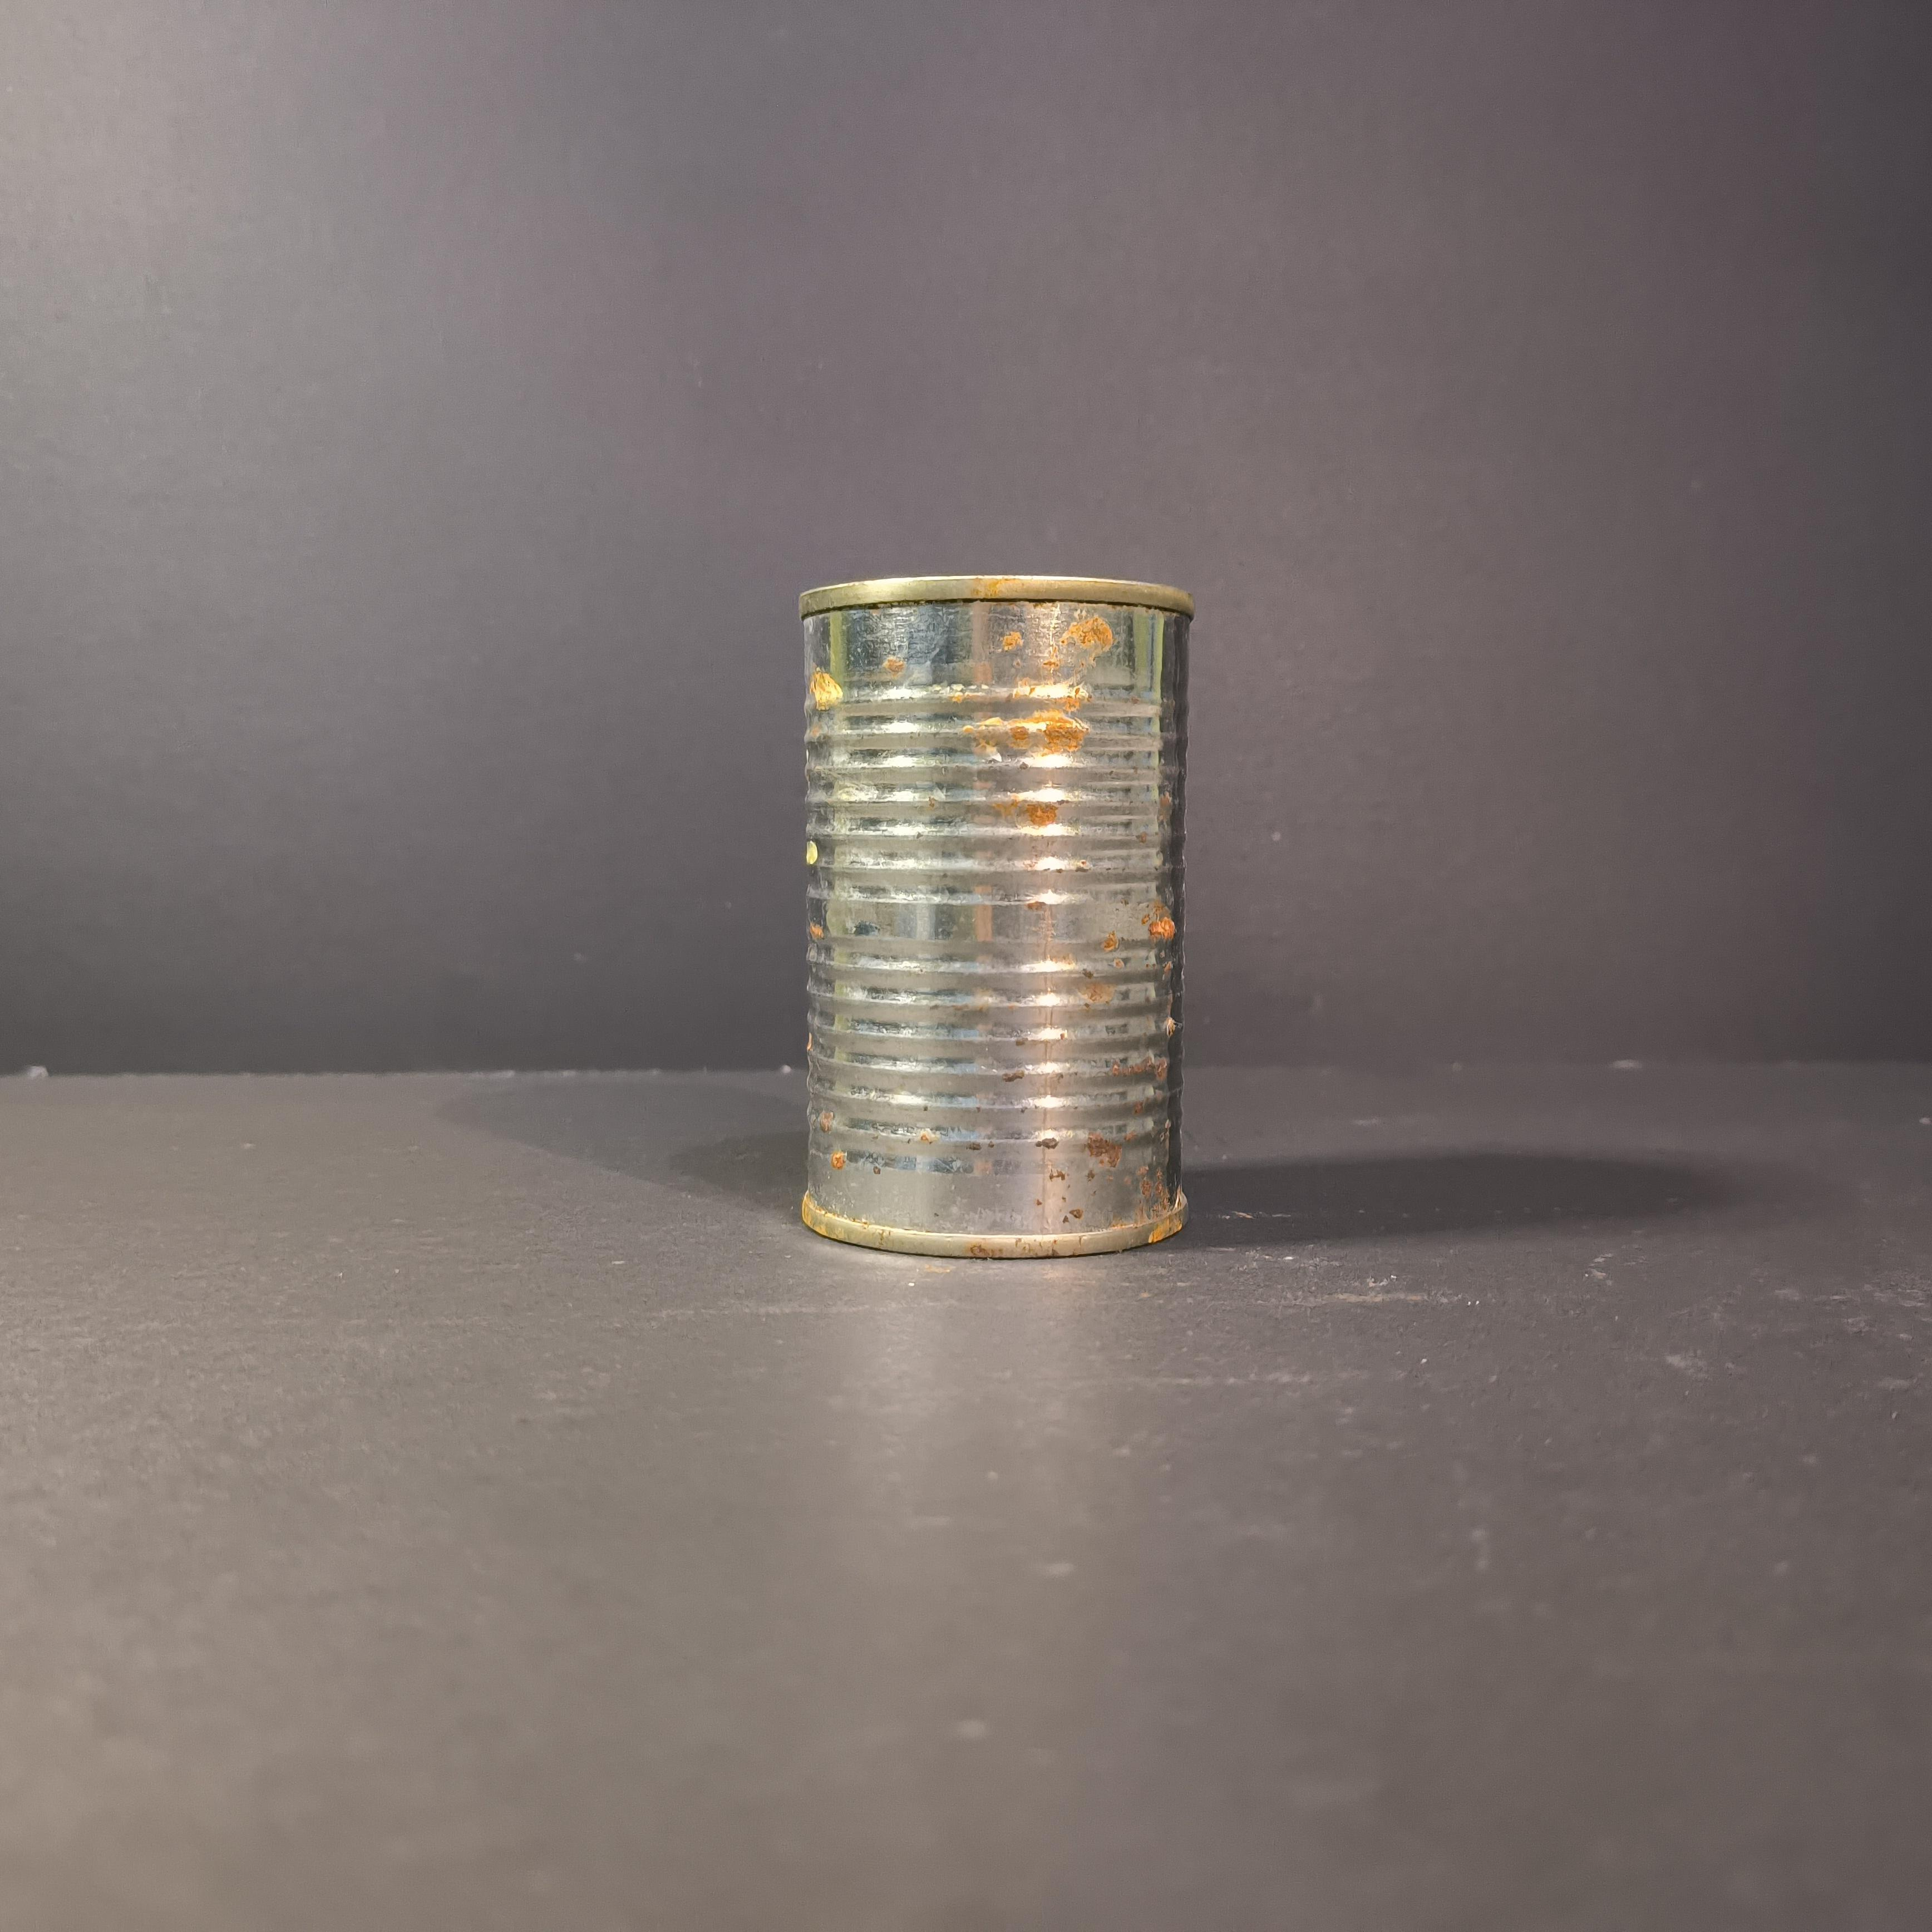Rusted: (782, 550, 1215, 1293)
